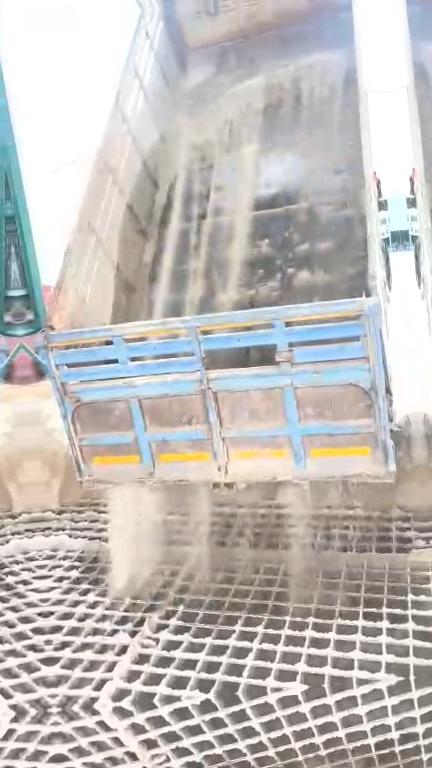sand: (29, 412, 425, 596), (143, 54, 342, 318), (153, 543, 430, 573), (282, 487, 317, 601), (107, 621, 157, 694), (39, 535, 110, 560), (186, 47, 222, 88)
